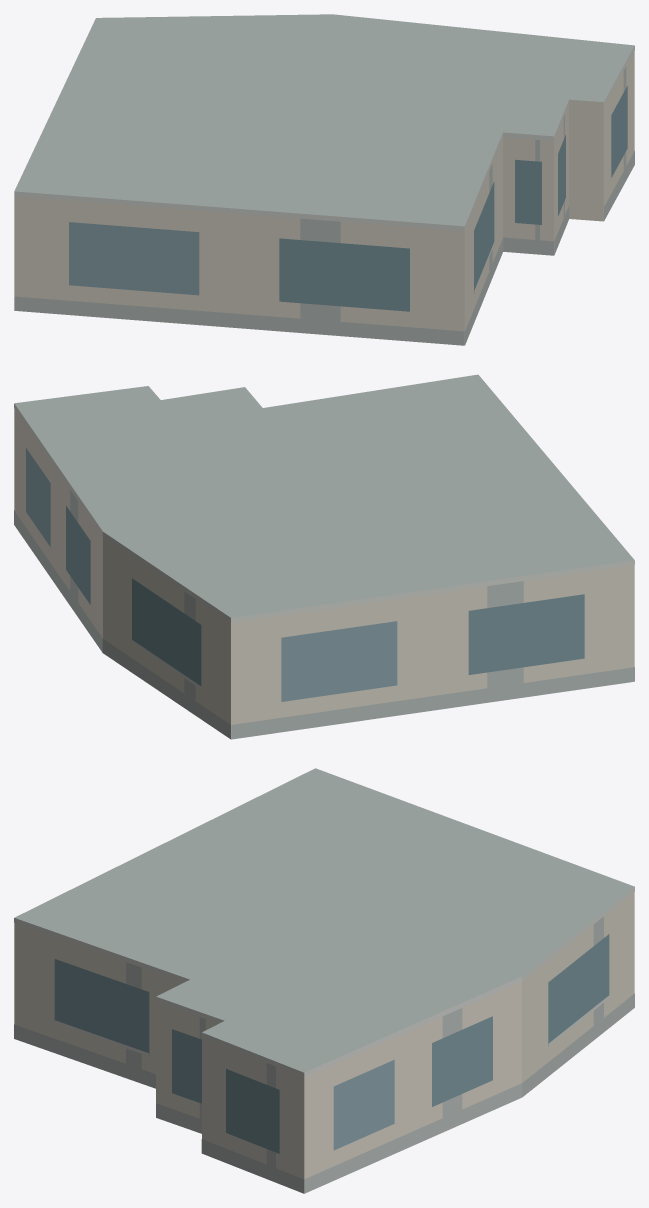
The model's file is residential-4c74ea16-d81c-4182-9f6d-4fff068fa0b9.glb.
The picture shows the model from 3 angles, top to bottom: view 1: azimuth 30°, elevation 25°; view 2: azimuth 150°, elevation 25°; view 3: azimuth 270°, elevation 25°; orthographic projection.
Visible parts, largest first — view 1: residential-4c74ea16-d81c-4182-9f6d-4fff068fa0b9.tmp; view 2: residential-4c74ea16-d81c-4182-9f6d-4fff068fa0b9.tmp; view 3: residential-4c74ea16-d81c-4182-9f6d-4fff068fa0b9.tmp.
Boxes of the visible parts, <box> form: residential-4c74ea16-d81c-4182-9f6d-4fff068fa0b9.tmp: <box>14,14,634,345</box>; residential-4c74ea16-d81c-4182-9f6d-4fff068fa0b9.tmp: <box>14,374,634,739</box>; residential-4c74ea16-d81c-4182-9f6d-4fff068fa0b9.tmp: <box>14,768,634,1193</box>.
Size of the model in its own units: 16.46 by 3.05 by 14.18.
